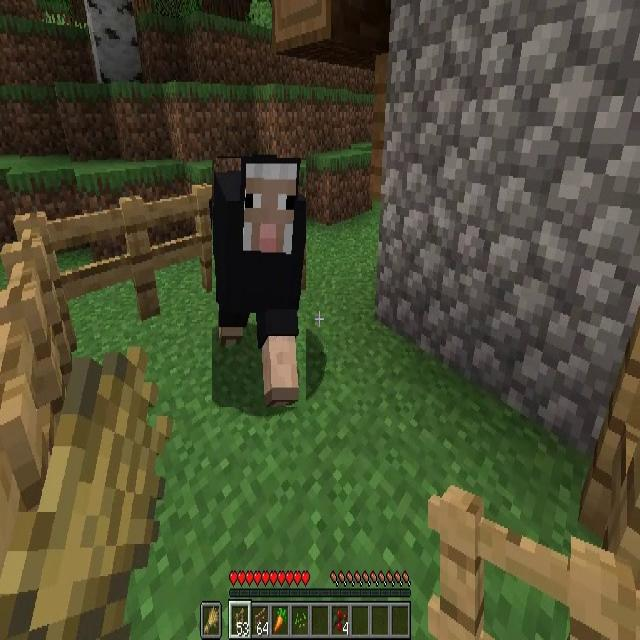sheep: (212, 158, 306, 407)
